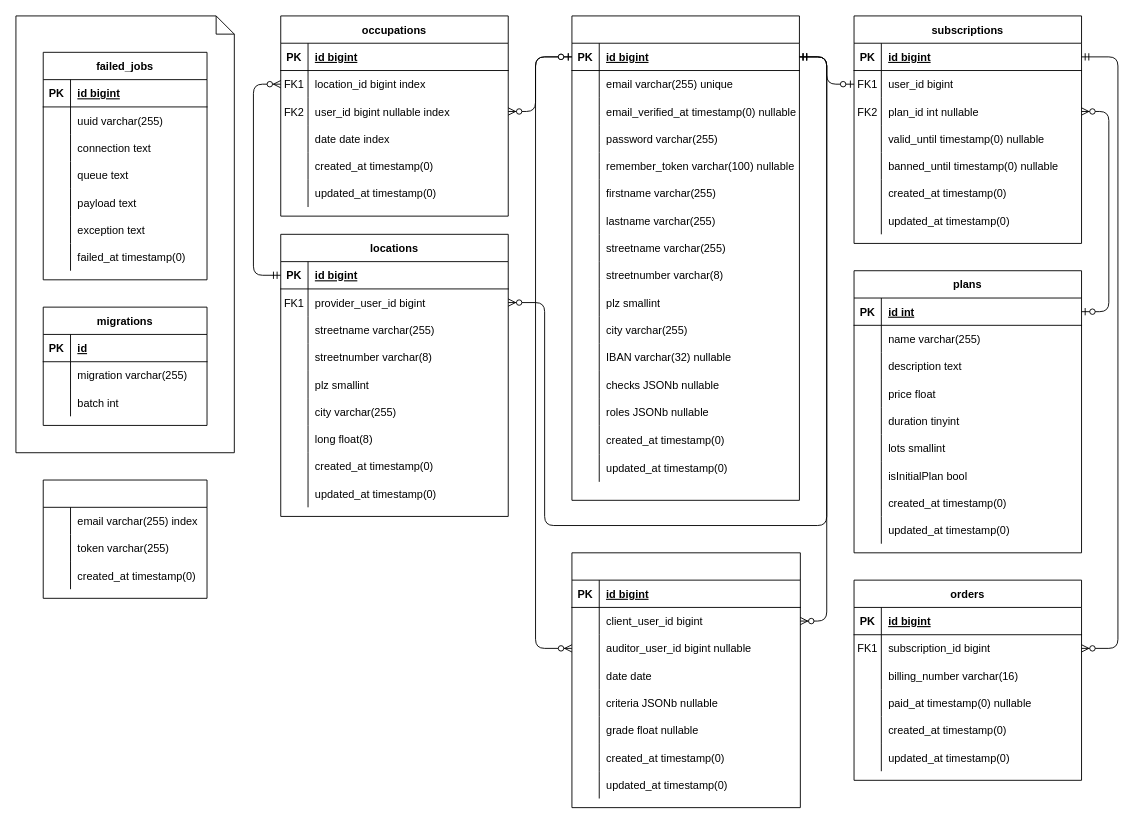
Some shapes in this 1142 by 824 pixel diagram are drawn without their labels. The shapes that lost their labels are listed below. From the top down, each one's box as (x1, y1, x2, y2) in pixels, then its label:
(15, 15, 234, 453): Laravel Functionallity
(571, 15, 799, 500): users
(42, 479, 207, 598): password_resets
(571, 552, 800, 808): audits
